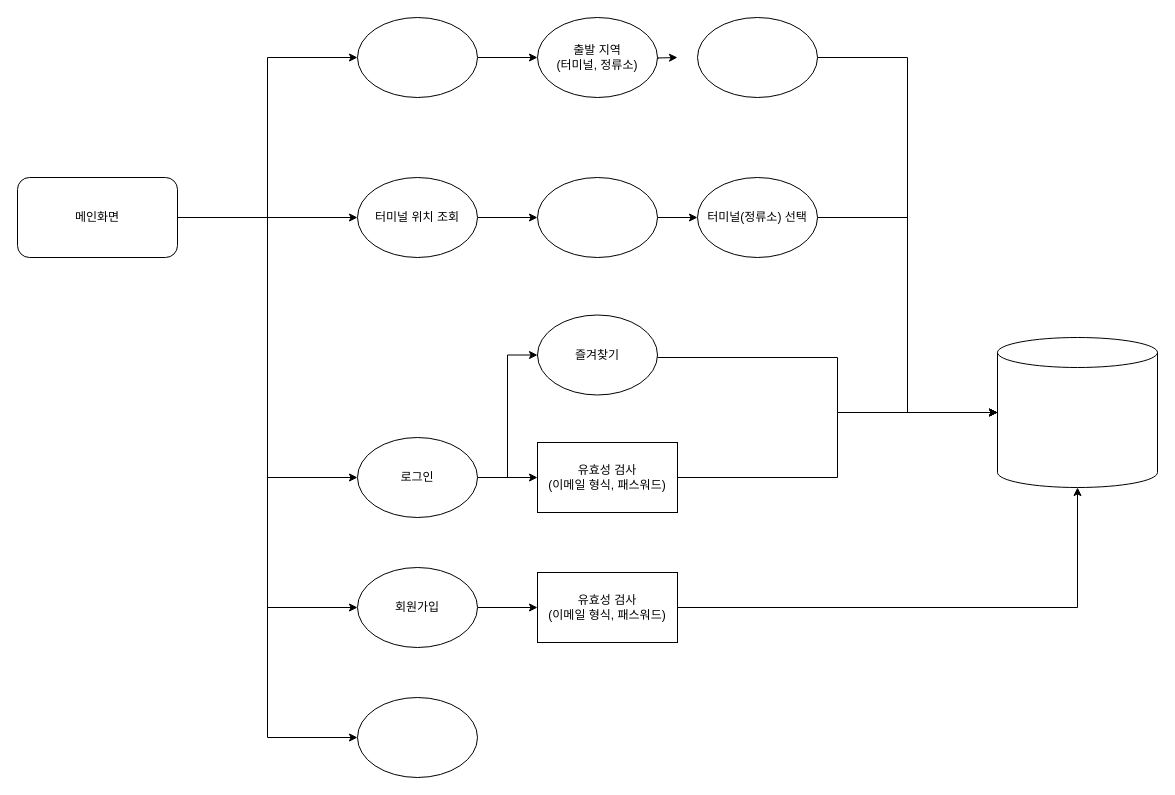
Some shapes in this 1175 by 795 pixel diagram are drawn without their labels. Each missing label, with the box of its shape:
구 선택 ex) 북구: (536, 176, 658, 258)
도착지역 (터미널,정류소): (696, 16, 818, 98)
예매 홈페이지 이동: (356, 696, 478, 778)
지역 선택: (356, 16, 478, 98)
